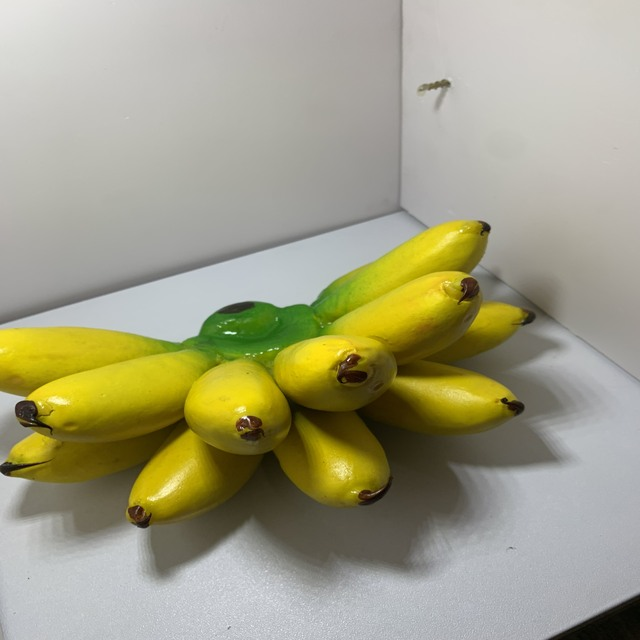Chuoi: (0, 218, 551, 536)
